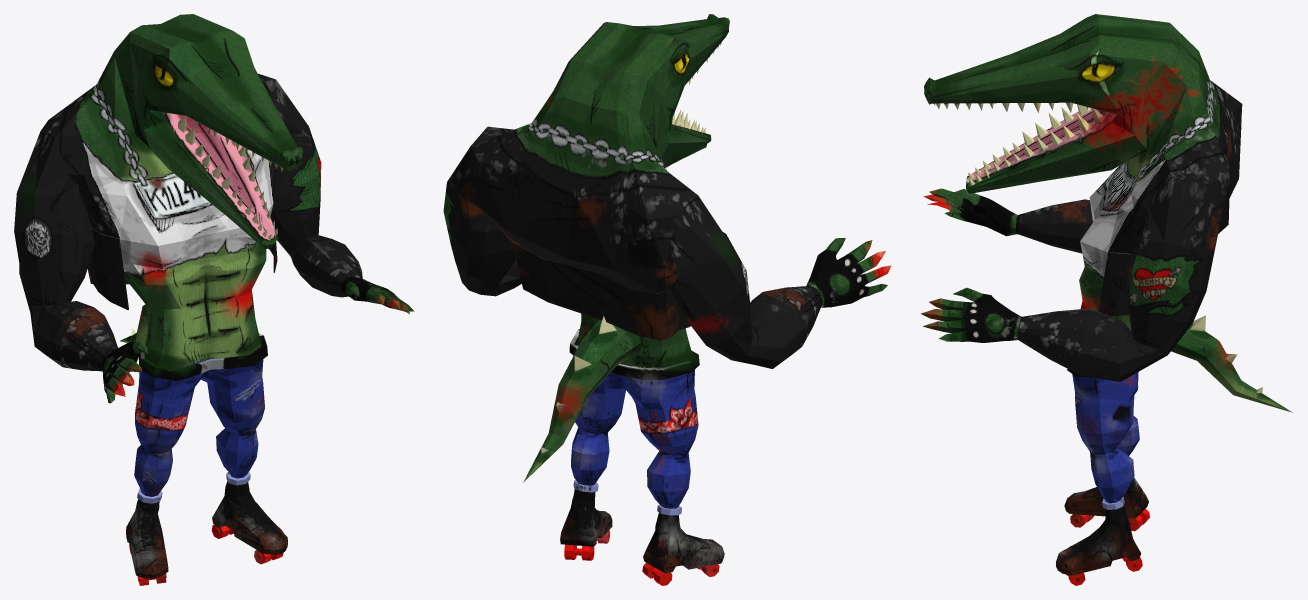
Rendered from cocodrilaBonesSelect_000004.obj.
3 views of the same model, side by side, from view 1: azimuth 30°, elevation 25°; view 2: azimuth 150°, elevation 25°; view 3: azimuth 270°, elevation 25° (orthographic). The views are drawn at different scales.
Visible parts, largest first — view 1: Crocodile.002_Cylinder.002; view 2: Crocodile.002_Cylinder.002; view 3: Crocodile.002_Cylinder.002.
Boxes of the visible parts, x1,y1,x2,y2 form: Crocodile.002_Cylinder.002: [14, 14, 414, 585]; Crocodile.002_Cylinder.002: [443, 14, 891, 585]; Crocodile.002_Cylinder.002: [921, 14, 1292, 585].
Size of the model in its own units: 4.31 by 6.78 by 4.35.
